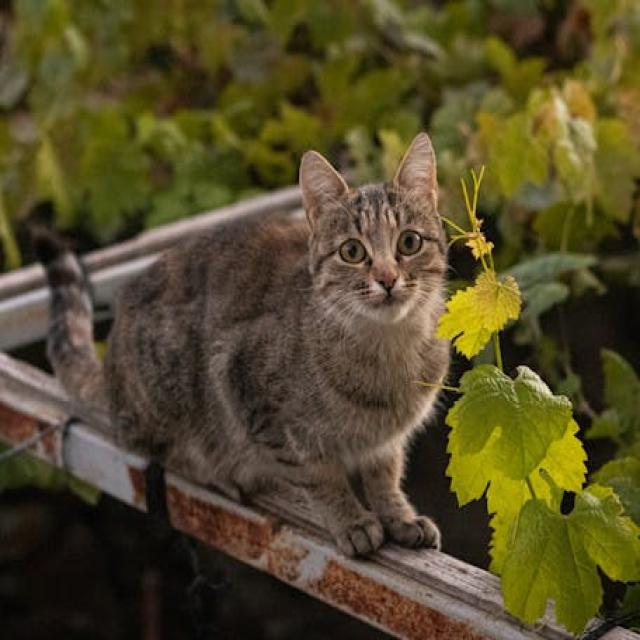Cat: (24, 130, 453, 560)
